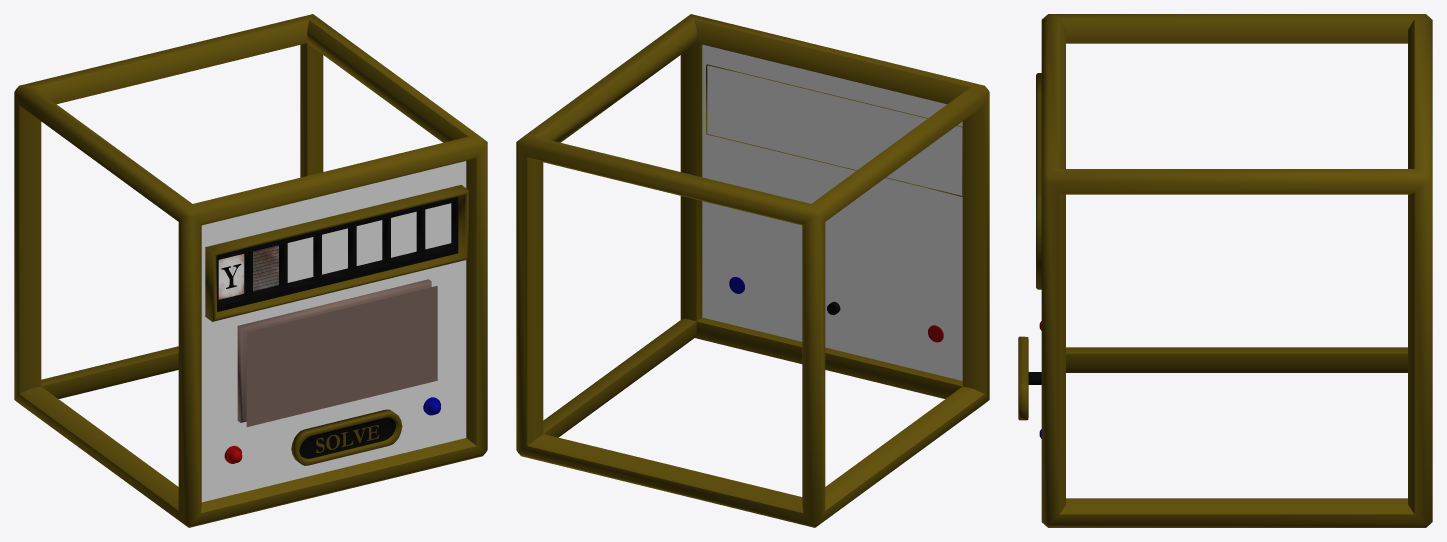
File: Cipher_P2_01.fbx
The picture shows the model from 3 angles, left to right: view 1: azimuth 30°, elevation 25°; view 2: azimuth 150°, elevation 25°; view 3: azimuth 270°, elevation 25°; orthographic projection. The views are drawn at different scales.
Visible parts, largest first — view 1: Box067, Display Plane, Cipher Hint Display, Letter Slot Frame, SOLVE, Cipher Hint Display Back, NO Letter Texture Plane, Letter Texture Plane; view 2: Box067, Display Plane, Letter Slot Frame; view 3: Box067, Letter Slot Frame, SOLVE.
Boxes of the visible parts, x1=… form: Box067: x1=14, y1=14, x2=487, y2=527; Display Plane: x1=201, y1=161, x2=466, y2=502; Cipher Hint Display: x1=246, y1=286, x2=437, y2=426; Letter Slot Frame: x1=205, y1=185, x2=468, y2=321; SOLVE: x1=291, y1=409, x2=402, y2=465; Cipher Hint Display Back: x1=237, y1=279, x2=431, y2=422; NO Letter Texture Plane: x1=253, y1=245, x2=278, y2=291; Letter Texture Plane: x1=218, y1=254, x2=244, y2=299; Box067: x1=516, y1=14, x2=989, y2=527; Display Plane: x1=702, y1=44, x2=962, y2=380; Letter Slot Frame: x1=706, y1=64, x2=962, y2=196; Box067: x1=1041, y1=14, x2=1432, y2=527; Letter Slot Frame: x1=1036, y1=73, x2=1041, y2=289; SOLVE: x1=1018, y1=336, x2=1041, y2=420.
Size of the model in its own units: 126 by 126 by 133.
Materials: 10 (2 with a texture image).
